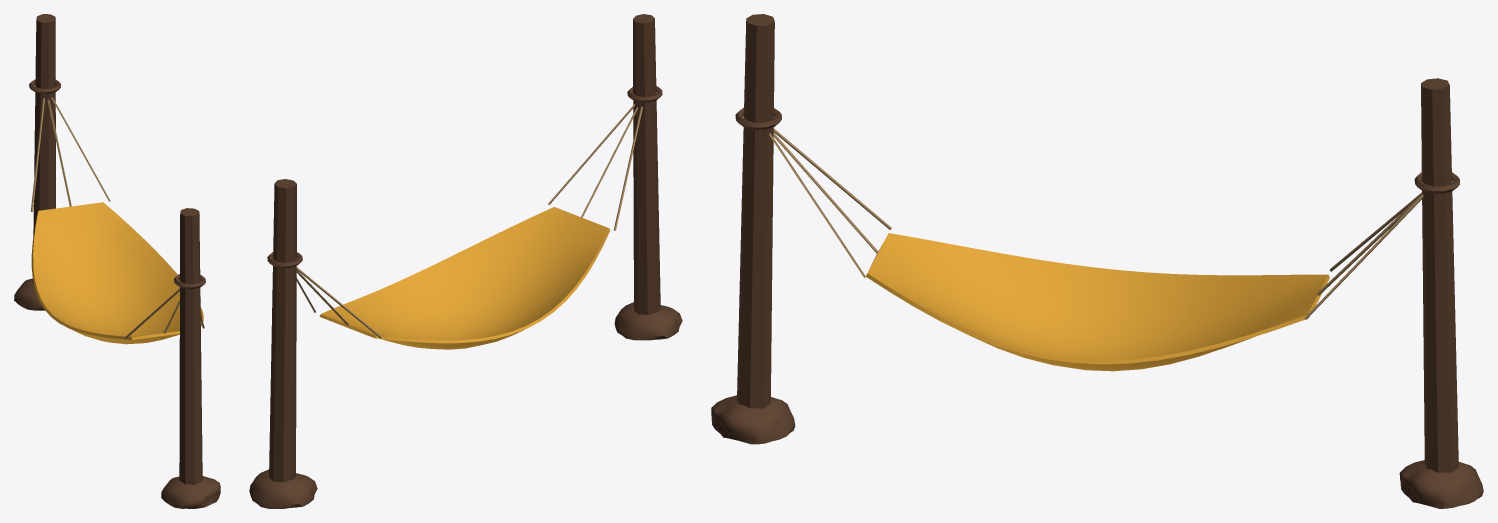
Rendered from nomad_building_b24_decor.fbx.
3 renders of one model, left to right at view 1: azimuth 30°, elevation 25°; view 2: azimuth 150°, elevation 25°; view 3: azimuth 270°, elevation 25°, orthographic. The views are drawn at different scales.
Visible parts, largest first — view 1: C__Hammock__01; view 2: C__Hammock__01; view 3: C__Hammock__01.
Part boxes in pixels (bbox=[...]): C__Hammock__01: bbox=[14, 14, 220, 508]; C__Hammock__01: bbox=[249, 14, 682, 508]; C__Hammock__01: bbox=[711, 14, 1483, 508].
Bounding box in the file's own units: 181 × 340 × 581.
